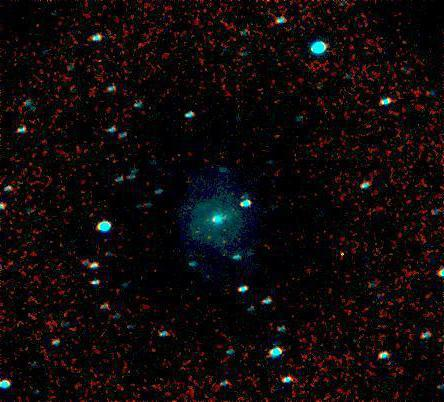star: (194, 223, 224, 253)
